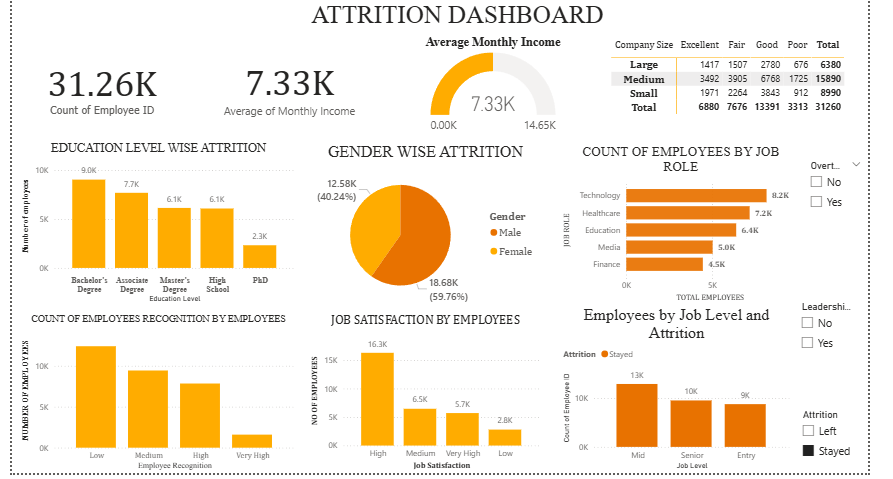

The dashboard page shown, as its layout file describes it:
{"tool":"powerbi","page":{"name":"Page 1","canvas":[1280,720],"ordinal":0},"visuals":[{"type":"textbox","box":[10.5,0,1269.7,65.7],"z":0},{"type":"card","fields":{"Values":["CountNonNull(train.Employee ID)"]},"box":[26.9,65.7,215.1,155.4],"z":1000},{"type":"card","fields":{"Values":["Avg(train.Monthly Income)"]},"box":[307.7,65.7,213.6,155.4],"z":2000},{"type":"clusteredColumnChart","title":"EDUCATION LEVEL WISE ATTRITION","fields":{"Category":["train.Education Level"],"Y":["CountNonNull(train.Attrition)"]},"box":[10.1,221.7,416.6,248.6],"z":3000},{"type":"pieChart","title":"GENDER WISE ATTRITION","fields":{"Category":["train.Gender"],"Y":["CountNonNull(train.Attrition)"]},"box":[442.2,227.1,351,249.5],"z":4000},{"type":"gauge","title":"Average Monthly Income","fields":{"Y":["Avg(train.Monthly Income)"]},"box":[587.1,65.7,262.9,155.4],"z":5000},{"type":"clusteredBarChart","title":"COUNT OF EMPLOYEES BY JOB ROLE","fields":{"Category":["train.Job Role"],"Y":["CountNonNull(train.Employee ID)"]},"box":[818.6,228.5,361.5,240.5],"z":6000},{"type":"columnChart","title":"COUNT OF EMPLOYEES RECOGNITION BY EMPLOYEES","fields":{"Category":["train.Employee Recognition"],"Y":["CountNonNull(train.Employee ID)"]},"box":[10.1,480.4,416.6,240.2],"z":7000},{"type":"columnChart","title":"JOB SATISFACTION BY EMPLOYEES","fields":{"Category":["train.Job Satisfaction"],"Y":["CountNonNull(train.Employee ID)"]},"box":[442.2,479.5,351,240.5],"z":8000},{"type":"pivotTable","fields":{"Columns":["train.Work-Life Balance"],"Rows":["train.Company Size"],"Values":["CountNonNull(train.Employee ID)"]},"box":[890.3,65.7,389.9,155.4],"z":9000},{"type":"clusteredColumnChart","title":"Employees by Job Level and Attrition","fields":{"Series":["train.Attrition"],"Category":["train.Job Level"],"Y":["CountNonNull(train.Employee ID)"]},"box":[818.6,470.5,348,249.5],"z":10000},{"type":"slicer","fields":{"Values":["train.Attrition"]},"box":[1168.1,619.9,112,95.6],"z":11000},{"type":"slicer","fields":{"Values":["train.Leadership Opportunities"]},"box":[1166.6,458.6,113.5,141.9],"z":12000},{"type":"slicer","fields":{"Values":["train.Overtime"]},"box":[1180.1,248,100.1,112],"z":13000}]}

Visuals, with their boxes on the page's 1280x720 design canvas (x1, y1, x2, y2). These are canvas units, not pixel positions in the 893x479 screenshot, which may show the page scaled, cropped or inside an application window:
textbox: 10, 0, 1280, 66
card - CountNonNull(train.Employee ID): 27, 66, 242, 221
card - Avg(train.Monthly Income): 308, 66, 521, 221
"EDUCATION LEVEL WISE ATTRITION" clusteredColumnChart: 10, 222, 427, 470
"GENDER WISE ATTRITION" pieChart: 442, 227, 793, 477
"Average Monthly Income" gauge: 587, 66, 850, 221
"COUNT OF EMPLOYEES BY JOB ROLE" clusteredBarChart: 819, 228, 1180, 469
"COUNT OF EMPLOYEES RECOGNITION BY EMPLOYEES" columnChart: 10, 480, 427, 721
"JOB SATISFACTION BY EMPLOYEES" columnChart: 442, 480, 793, 720
pivotTable - train.Work-Life Balance x train.Company Size: 890, 66, 1280, 221
"Employees by Job Level and Attrition" clusteredColumnChart: 819, 470, 1167, 720
slicer - train.Attrition: 1168, 620, 1280, 716
slicer - train.Leadership Opportunities: 1167, 459, 1280, 600
slicer - train.Overtime: 1180, 248, 1280, 360
